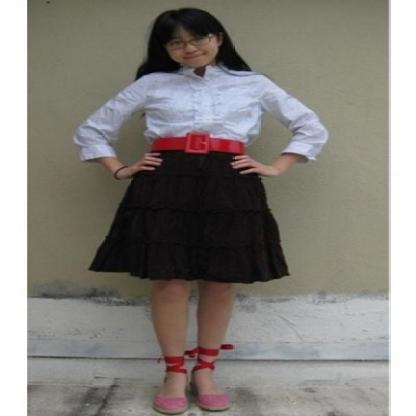shirt: (74, 64, 328, 160)
shoe: (148, 346, 228, 415)
skirt: (89, 150, 289, 284)
